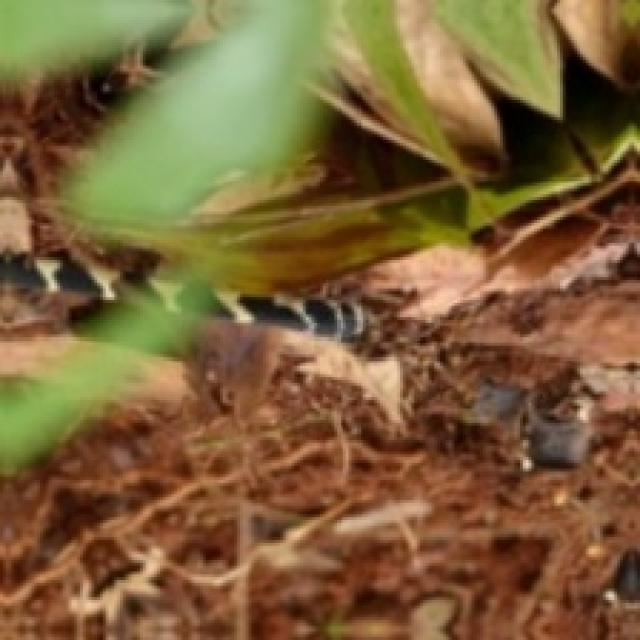king cobra: (0, 46, 363, 357)
